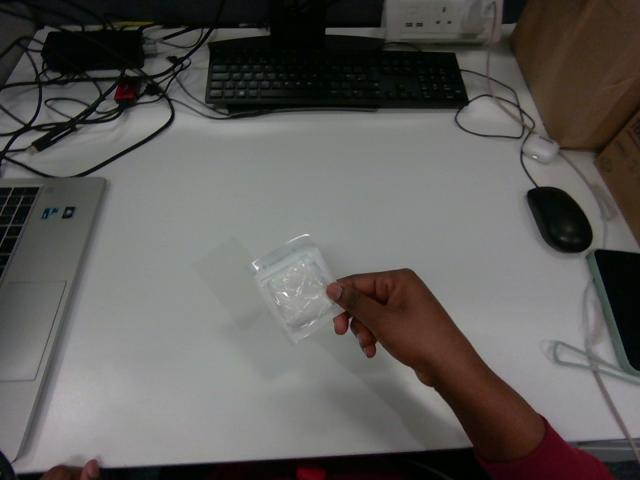gauze: (250, 235, 342, 342)
